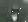person: (12, 7, 20, 21)
